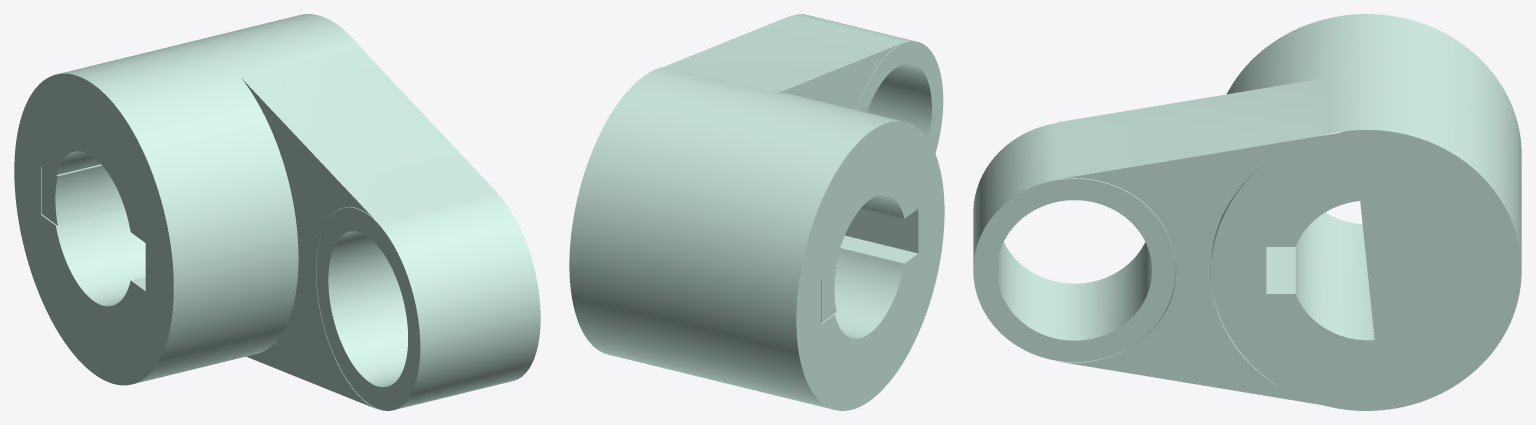
3 renders of one model, left to right at view 1: azimuth 30°, elevation 25°; view 2: azimuth 150°, elevation 25°; view 3: azimuth 270°, elevation 25°, orthographic. The views are drawn at different scales.
Parts seen in each view (by area): view 1: Renderer Node; view 2: Renderer Node; view 3: Renderer Node.
Boxes of the visible parts, x1,y1,x2,y2 form: Renderer Node: (14, 14, 540, 410); Renderer Node: (569, 14, 944, 410); Renderer Node: (973, 14, 1521, 410).
Size of the model in its own units: 0.5234 by 0.5921 by 1.05.
